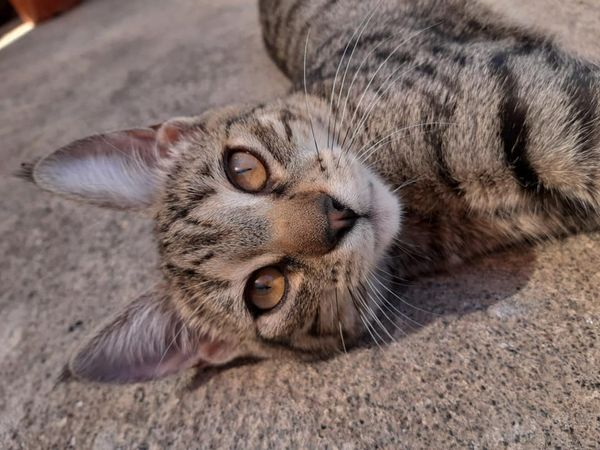cat: (20, 3, 593, 396)
